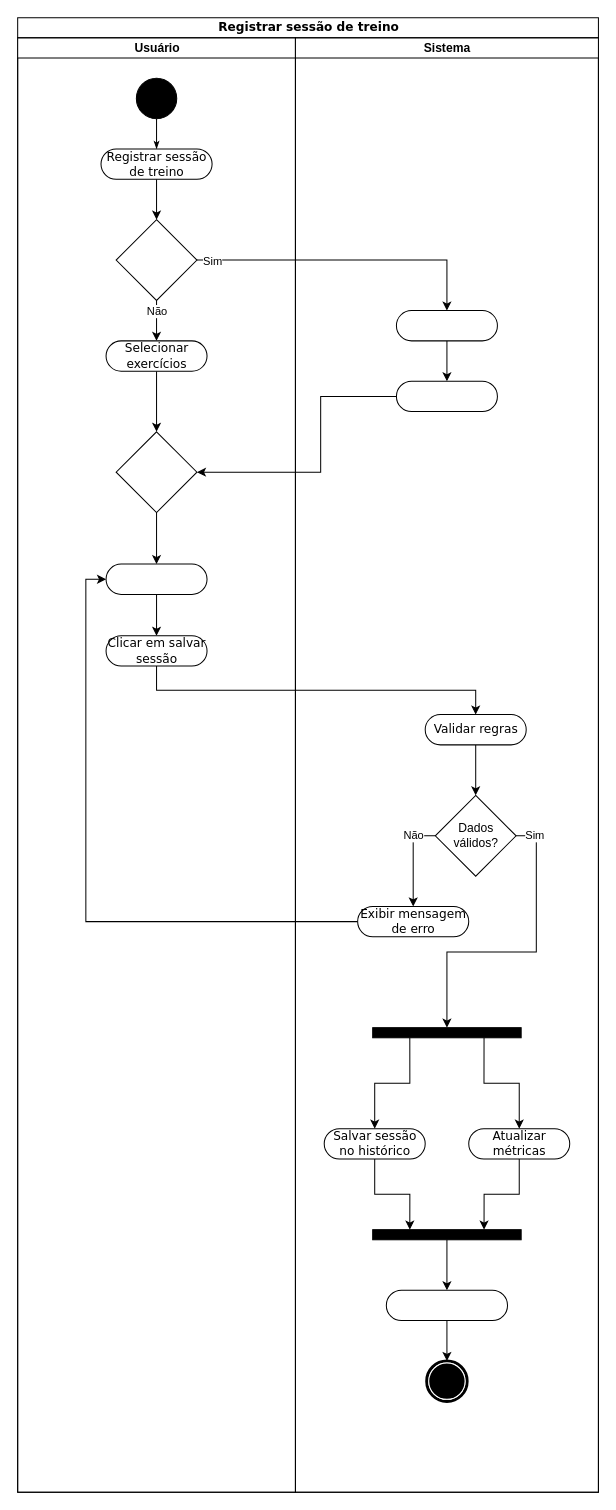
The diagram is 616 pixels wide and 1510 high, and some of its shapes have lost their labels. Each missing label, with the centre of its shape:
Buscar rotina ativa no BD: the point at 446,325
Exibir confirmação de sucesso: the point at 446,1305
Preencher execução: the point at 156,578
Preencher tela com exercícios: the point at 446,396
Vincular à rotina ativa?: the point at 156,259
